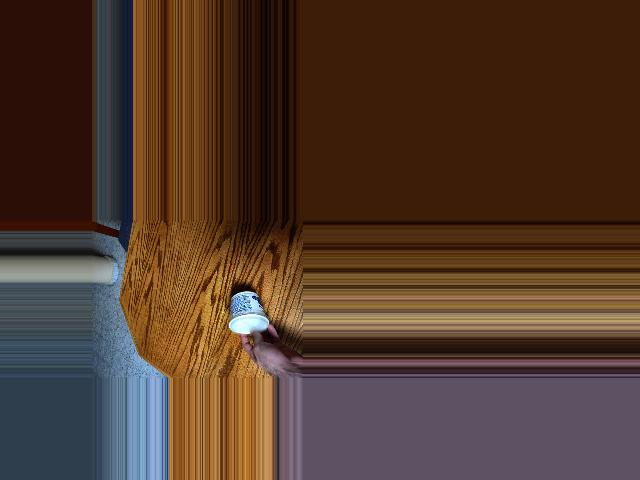cotage: (220, 286, 263, 330)
